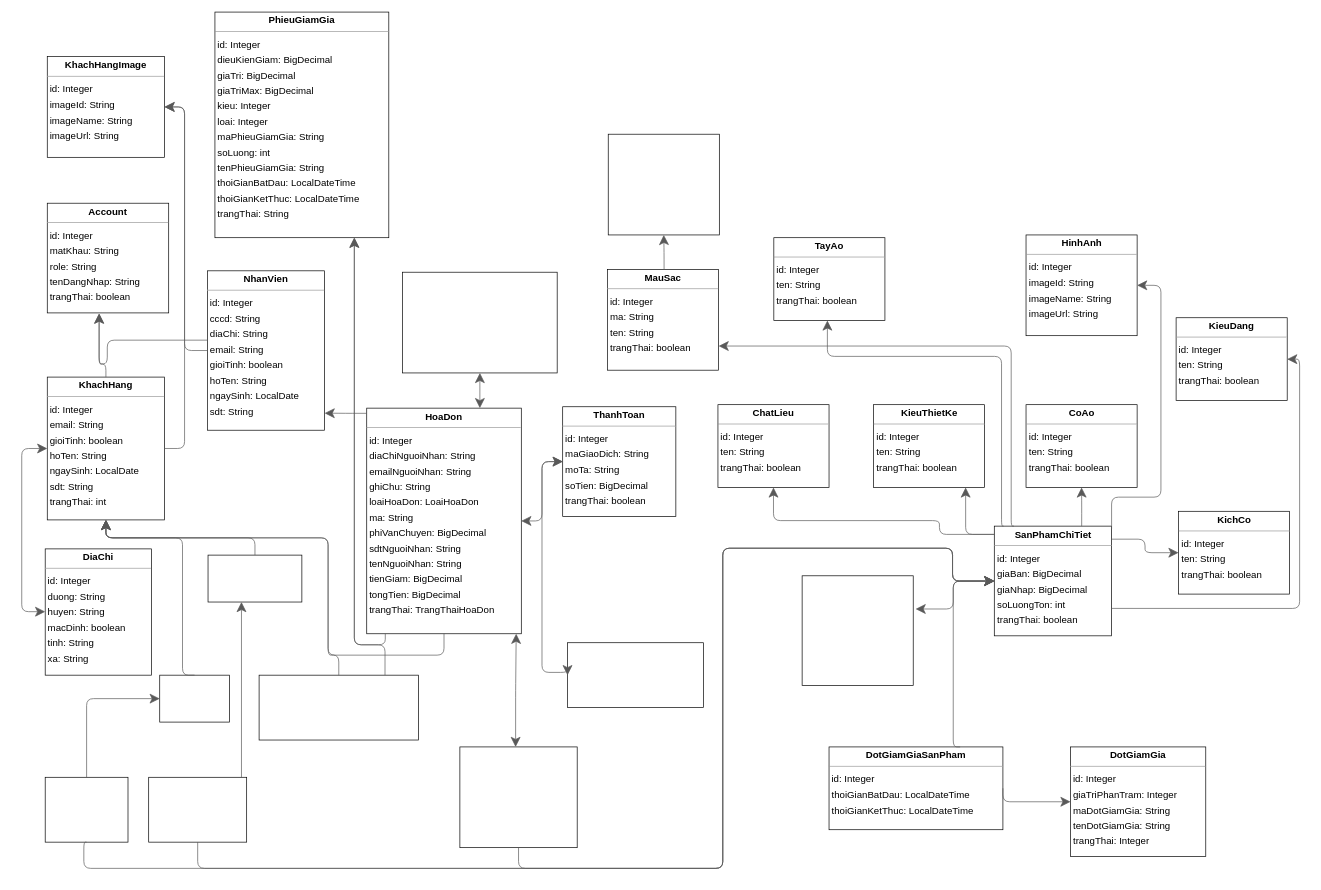
Image size: 1321x890. Some labels were removed from this diagram. The centre of each missing label's shape, as x and y in pixels:
"Cart id: Integer" goes at pixel 194 698.
"CartItem id: Integer soLuong: int" goes at pixel 86 809.
"FavouriteItem id: Integer soLuong: int" goes at pixel 197 809.
"FavouriteList id: Integer" goes at pixel 254 578.
"HinhThucThanhToan id: Integer hinhThuc: LoaiHinhThuc" goes at pixel 635 675.
"HoaDonChiTiet id: Integer giaBan: BigDecimal giaNhap: BigDecimal soLuong: int" goes at pixel 518 797.
"LichSuHoaDon id: Integer moTa: String tieuDe: String trangThai: TrangThaiHoaDon" goes at pixel 479 322.
"MauSacImage id: Integer imageId: String imageName: String imageUrl: String" goes at pixel 663 184.
"PhieuGiamGiaKhachHang id: Integer moTa: String" goes at pixel 338 707.
"SanPham id: Integer ma: String moTa: String ten: String trangThai: boolean" goes at pixel 857 630.
